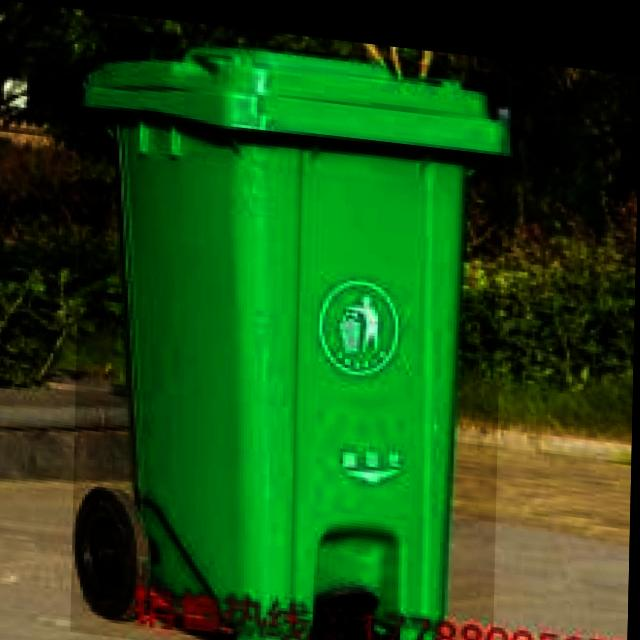garbage_bin: (74, 22, 506, 640)
